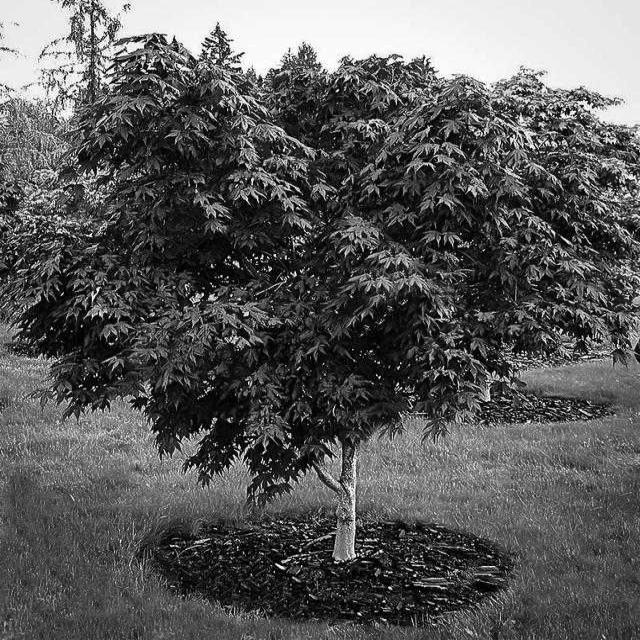Tree: (5, 35, 636, 561)
